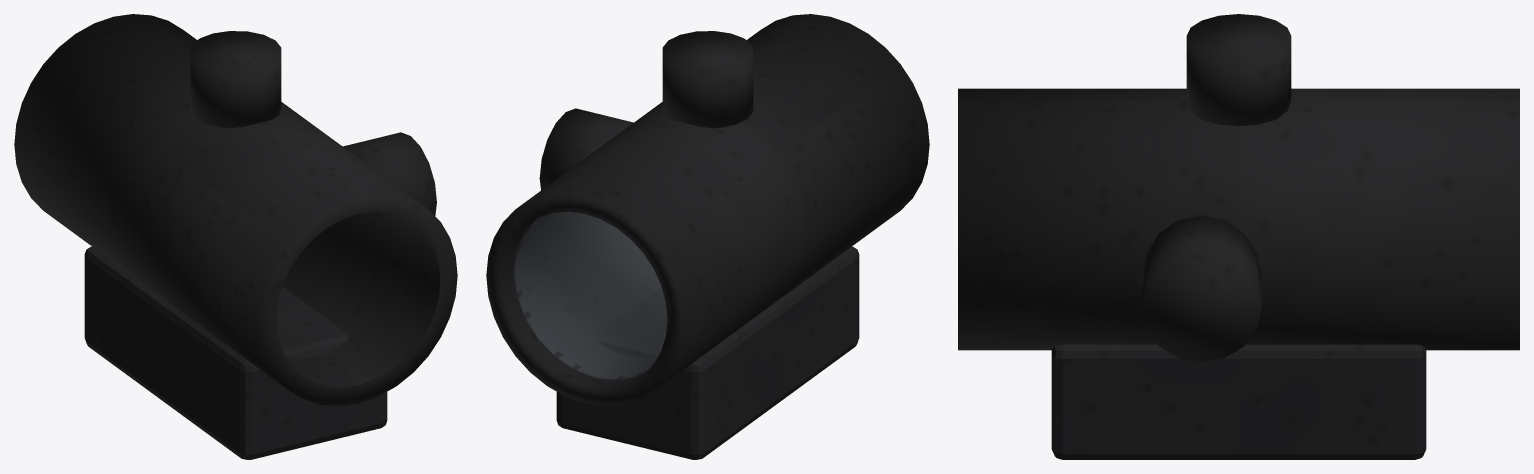
Rendered from sight_reddot.glb.
The picture shows the model from 3 angles, left to right: view 1: azimuth 30°, elevation 25°; view 2: azimuth 150°, elevation 25°; view 3: azimuth 270°, elevation 25°; orthographic projection. The views are drawn at different scales.
Visible parts, largest first — view 1: tube, mount, knob2, knob; view 2: tube, mount, lens, knob2, knob; view 3: tube, mount, knob, knob2.
Boxes of the visible parts, left/top/right/bottom form: tube: left=14, top=14, right=457, bottom=406; mount: left=84, top=246, right=387, bottom=459; knob2: left=190, top=31, right=281, bottom=128; knob: left=343, top=132, right=436, bottom=215; tube: left=486, top=14, right=929, bottom=406; mount: left=556, top=246, right=859, bottom=459; lens: left=514, top=212, right=666, bottom=379; knob2: left=662, top=31, right=753, bottom=128; knob: left=539, top=108, right=633, bottom=190; tube: left=958, top=88, right=1519, bottom=350; mount: left=1051, top=344, right=1426, bottom=459; knob: left=1141, top=216, right=1261, bottom=362; knob2: left=1186, top=14, right=1291, bottom=126.
Size of the model in its own units: 0.0455 by 0.057 by 0.075.
2 materials, 1 textured.
